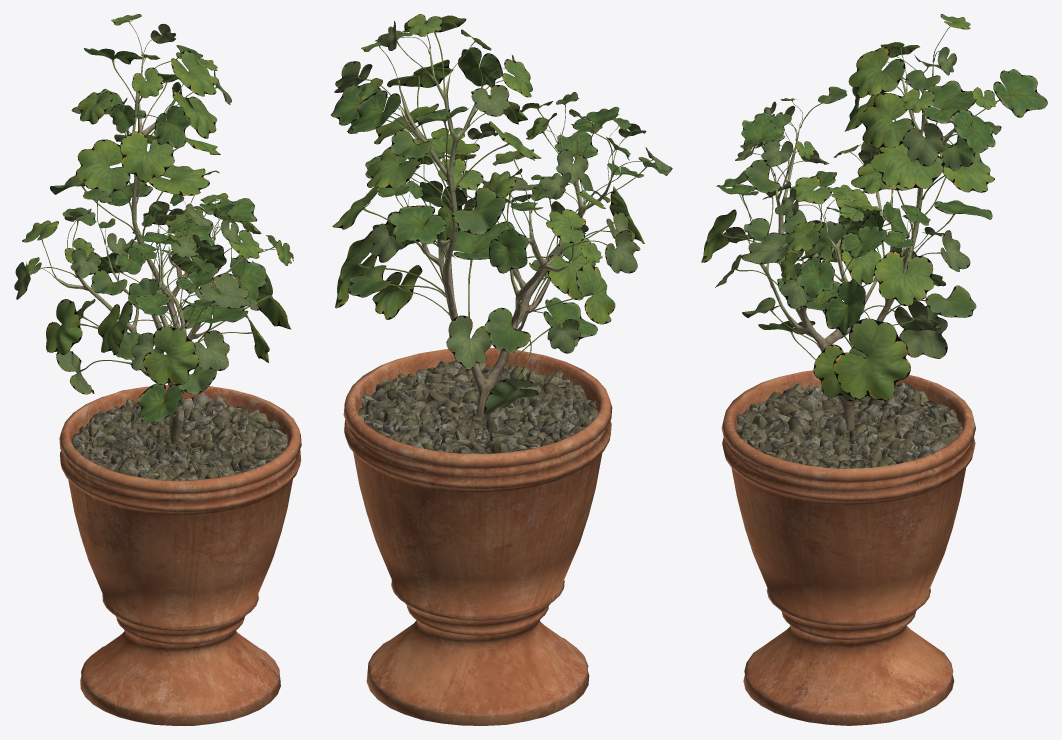
Rendered from potted_plant_01.glb.
The picture shows the model from 3 angles, left to right: view 1: azimuth 30°, elevation 25°; view 2: azimuth 150°, elevation 25°; view 3: azimuth 270°, elevation 25°; orthographic projection. The views are drawn at different scales.
Visible parts, largest first — view 1: potted_plant_01_stem, potted_plant_01_leaves; view 2: potted_plant_01_stem, potted_plant_01_leaves; view 3: potted_plant_01_stem, potted_plant_01_leaves.
Boxes of the visible parts, left/top/right/bottom form: potted_plant_01_stem: left=54, top=54, right=301, bottom=725; potted_plant_01_leaves: left=14, top=14, right=293, bottom=424; potted_plant_01_stem: left=343, top=48, right=613, bottom=725; potted_plant_01_leaves: left=331, top=14, right=672, bottom=414; potted_plant_01_stem: left=721, top=55, right=975, bottom=725; potted_plant_01_leaves: left=701, top=14, right=1047, bottom=401.
Size of the model in its own units: 0.5874 by 1.34 by 0.6336.
2 materials, 2 textured.
